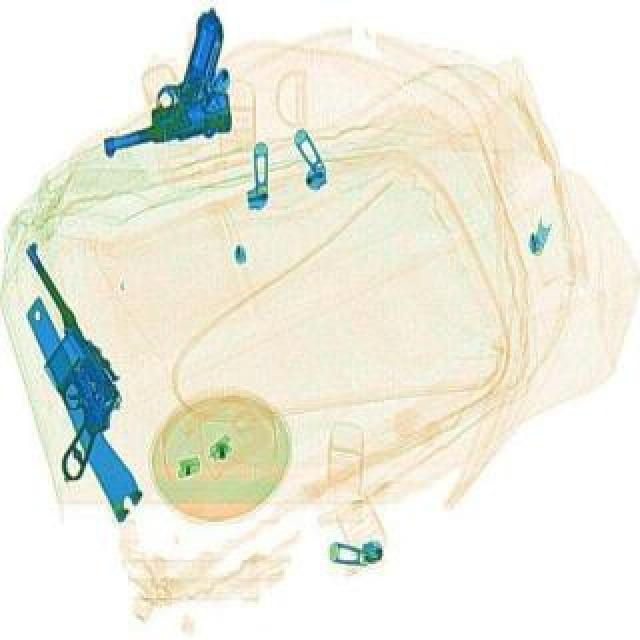gun: (78, 8, 244, 156), (0, 278, 140, 452)
